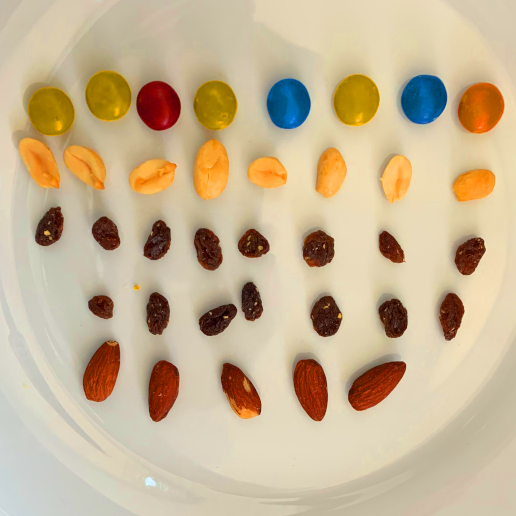almond: (347, 360, 407, 413), (82, 339, 121, 403), (220, 362, 263, 419), (293, 358, 329, 423), (148, 360, 180, 422)
mm: (332, 73, 381, 125), (457, 82, 506, 134), (266, 76, 312, 129), (401, 74, 448, 125), (136, 79, 182, 131), (192, 80, 238, 131), (85, 71, 131, 121), (28, 87, 74, 135)
peanut: (18, 136, 61, 190), (192, 138, 230, 199), (62, 144, 108, 192), (128, 157, 177, 195), (314, 147, 347, 198), (381, 154, 413, 203), (451, 167, 495, 200), (246, 155, 288, 188)
raisin: (310, 294, 343, 338), (193, 227, 224, 271), (198, 303, 238, 337), (140, 219, 172, 260), (439, 292, 465, 342), (301, 229, 335, 267), (454, 236, 486, 275), (378, 298, 408, 339), (35, 206, 64, 246), (145, 291, 170, 336), (90, 214, 121, 250), (237, 228, 270, 259), (376, 230, 405, 263), (240, 281, 263, 322), (87, 295, 115, 319)
